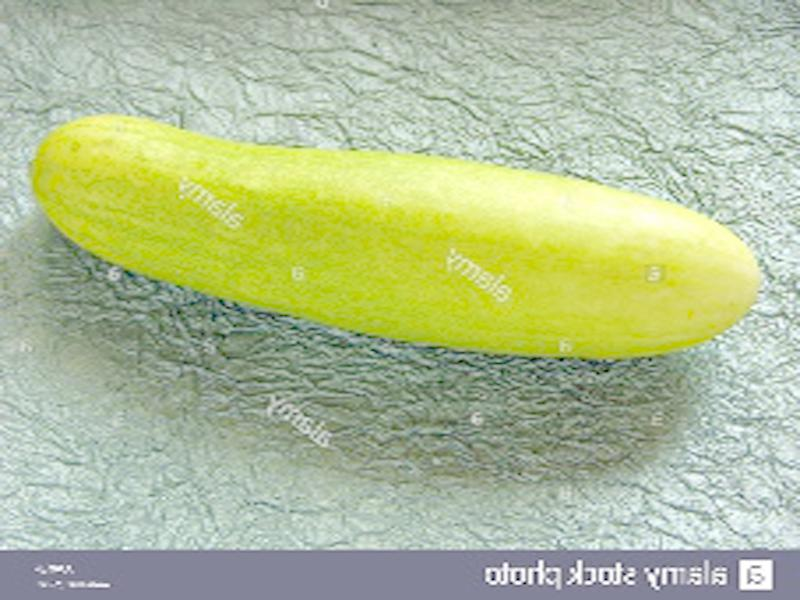Cucumber: (27, 114, 760, 357)
